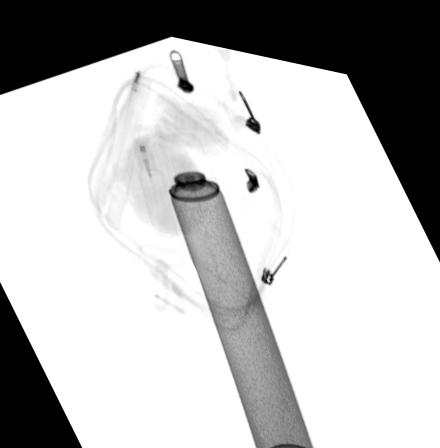Sprayer: (151, 120, 318, 448)
